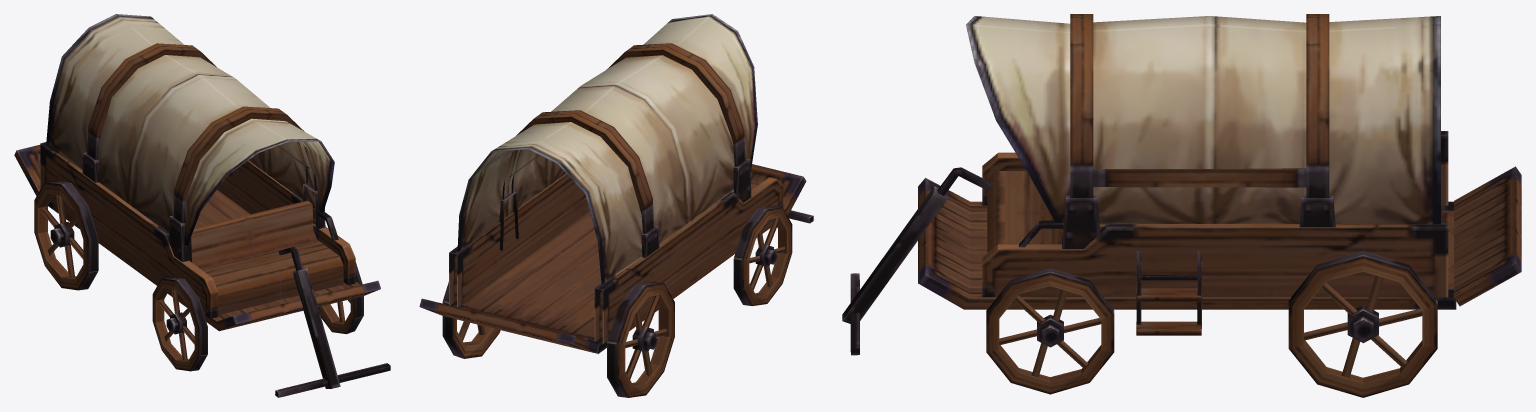
The model's file is 2_YiZhan_MaChe_01.FBX.
3 renders of one model, left to right at view 1: azimuth 30°, elevation 25°; view 2: azimuth 150°, elevation 25°; view 3: azimuth 270°, elevation 25°, orthographic. The views are drawn at different scales.
Visible parts, largest first — view 1: 2_YiZhan_MaChe_01; view 2: 2_YiZhan_MaChe_01; view 3: 2_YiZhan_MaChe_01.
Part boxes in pixels (x1=…): 2_YiZhan_MaChe_01: x1=14, y1=14, x2=390, y2=397; 2_YiZhan_MaChe_01: x1=419, y1=14, x2=813, y2=397; 2_YiZhan_MaChe_01: x1=842, y1=14, x2=1521, y2=397.
Bounding box in the file's own units: 397 × 485 × 931.
